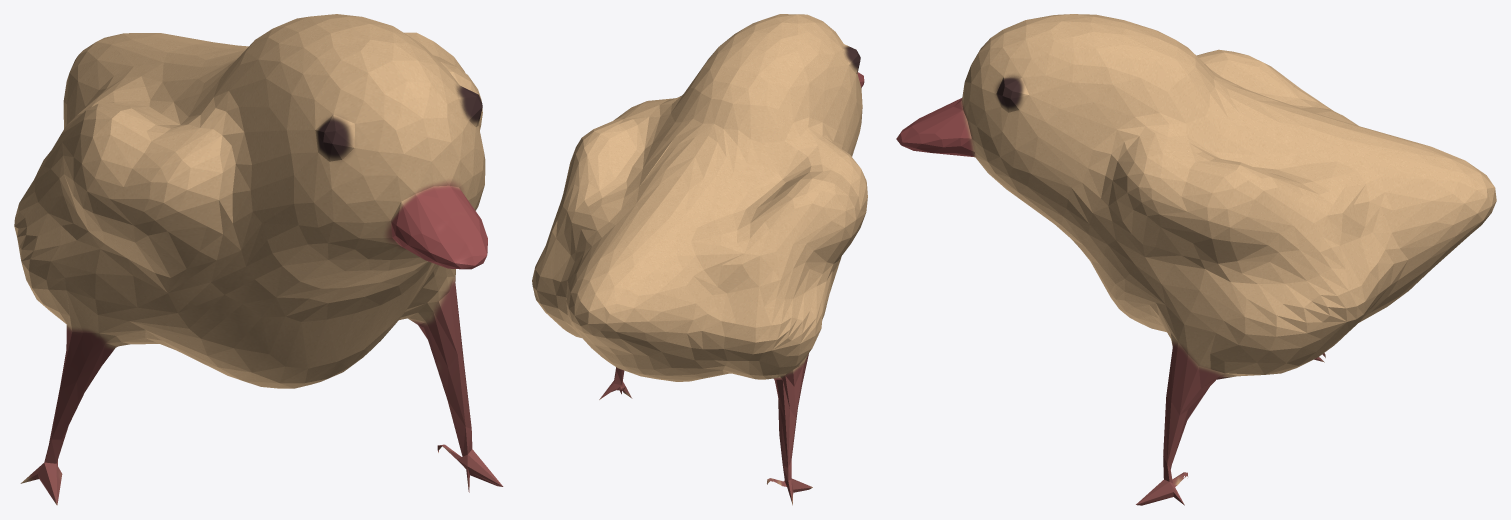
The model's file is chicken_6.obj.
The picture shows the model from 3 angles, left to right: view 1: azimuth 30°, elevation 25°; view 2: azimuth 150°, elevation 25°; view 3: azimuth 270°, elevation 25°; orthographic projection. The views are drawn at different scales.
Parts seen in each view (by area): view 1: TRYout:Group36674_Group36674; view 2: TRYout:Group36674_Group36674; view 3: TRYout:Group36674_Group36674.
Boxes of the visible parts, x1=… form: TRYout:Group36674_Group36674: x1=14, y1=14, x2=503, y2=505; TRYout:Group36674_Group36674: x1=532, y1=14, x2=867, y2=505; TRYout:Group36674_Group36674: x1=896, y1=14, x2=1496, y2=505.
Size of the model in its own units: 3.7 by 4.8 by 6.22.
1 material, 1 textured.
